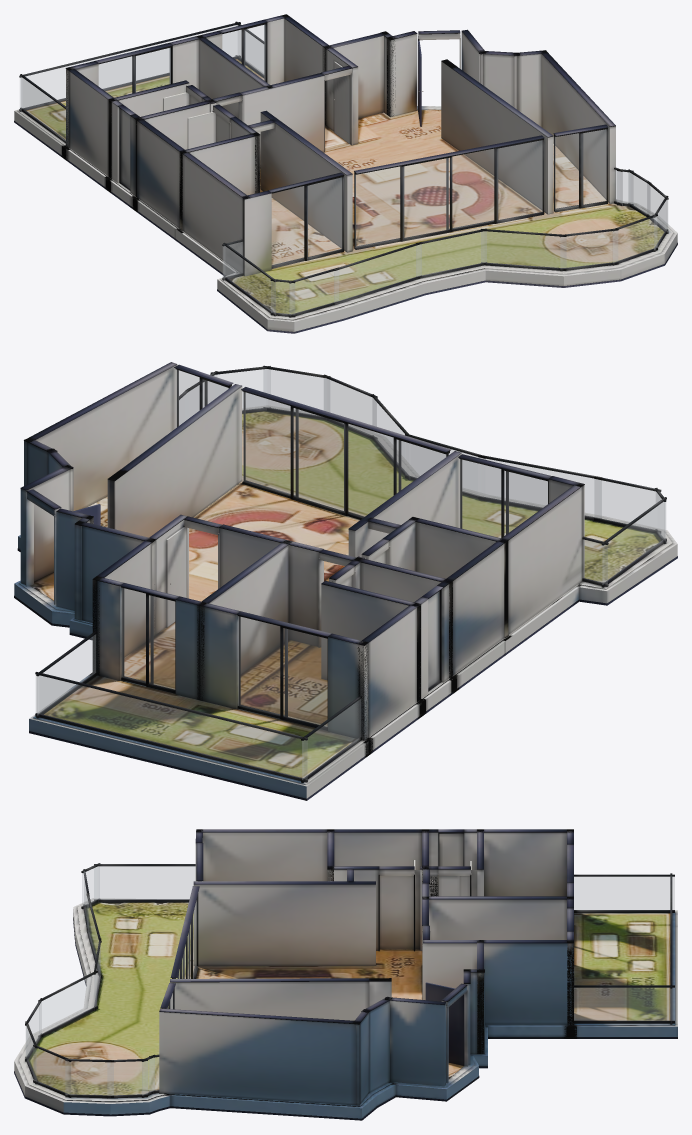
The picture shows the model from 3 angles, top to bottom: view 1: azimuth 30°, elevation 25°; view 2: azimuth 150°, elevation 25°; view 3: azimuth 270°, elevation 25°; orthographic projection. The views are drawn at different scales.
Visible parts, largest first — view 1: plan, glass4_m, glass3_m, glass5_m, railg0_m, railg14_m, railg12_m, glass0_m, railg13_m, railg11_m, railg4_m, railg15_m (+10 smaller); view 2: plan, glass4_m, railg0_m, glass0_m, glass3_m, glass1_m, railg14_m, railg4_m, railg15_m, railg3_m, railg2_m, railg10_m (+7 smaller); view 3: plan, railg4_m, railg2_m, railg3_m, railg12_m, railg8_m, railg7_m, railg9_m, glass4_m, railg16_m, railg11_m.
Part boxes in pixels (bbox=[...]): plan: bbox=[14, 14, 677, 333]; glass4_m: bbox=[355, 140, 542, 247]; glass3_m: bbox=[272, 177, 341, 266]; glass5_m: bbox=[555, 129, 606, 209]; railg0_m: bbox=[20, 25, 237, 108]; railg14_m: bbox=[334, 244, 421, 302]; railg12_m: bbox=[481, 231, 566, 268]; glass0_m: bbox=[99, 48, 170, 97]; railg13_m: bbox=[416, 231, 486, 276]; railg11_m: bbox=[560, 231, 617, 268]; railg4_m: bbox=[224, 246, 275, 313]; railg15_m: bbox=[289, 270, 338, 314]; plan: bbox=[14, 362, 677, 800]; glass4_m: bbox=[243, 392, 445, 517]; railg0_m: bbox=[36, 676, 307, 779]; glass0_m: bbox=[238, 616, 327, 726]; glass3_m: bbox=[460, 459, 547, 537]; glass1_m: bbox=[122, 588, 174, 689]; railg14_m: bbox=[479, 457, 601, 518]; railg4_m: bbox=[602, 502, 665, 584]; railg15_m: bbox=[594, 479, 660, 529]; railg3_m: bbox=[302, 699, 360, 779]; railg2_m: bbox=[37, 635, 95, 715]; railg10_m: bbox=[264, 369, 329, 415]; plan: bbox=[14, 829, 677, 1120]; railg4_m: bbox=[94, 866, 195, 899]; railg2_m: bbox=[574, 988, 674, 1020]; railg3_m: bbox=[574, 877, 674, 909]; railg12_m: bbox=[39, 973, 96, 1035]; railg8_m: bbox=[65, 1061, 113, 1095]; railg7_m: bbox=[107, 1061, 147, 1095]; railg9_m: bbox=[33, 1047, 70, 1094]; glass4_m: bbox=[176, 902, 196, 978]; railg16_m: bbox=[82, 867, 99, 906]; railg11_m: bbox=[26, 1002, 41, 1058].
Size of the model in its own units: 12.5 by 2.62 by 16.68.
Materials: 2 (1 with a texture image).
